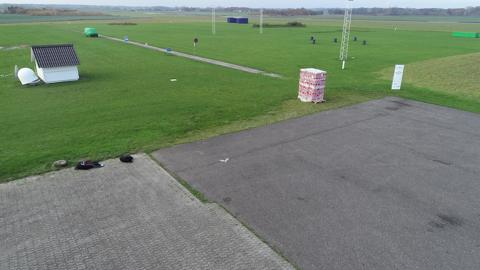RockwoolPallet: (297, 67, 328, 104)
